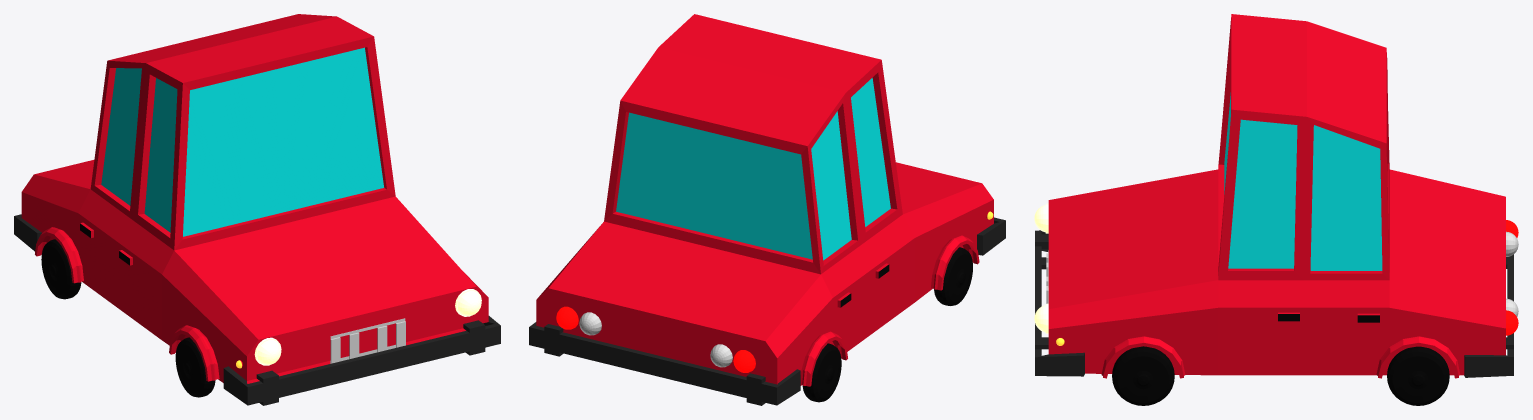
File: car.fbx
3 renders of one model, left to right at view 1: azimuth 30°, elevation 25°; view 2: azimuth 150°, elevation 25°; view 3: azimuth 270°, elevation 25°, orthographic. The views are drawn at different scales.
Visible parts, largest first — view 1: Cube, Cylinder.001, Cube.001; view 2: Cube, Cylinder.001; view 3: Cube, Cylinder.001.
Boxes of the visible parts, left/top/right/bottom form: Cube: left=14, top=14, right=500, bottom=405; Cylinder.001: left=35, top=227, right=219, bottom=397; Cube.001: left=330, top=318, right=405, bottom=363; Cube: left=529, top=14, right=1005, bottom=405; Cylinder.001: left=800, top=235, right=979, bottom=402; Cube: left=1034, top=14, right=1518, bottom=377; Cylinder.001: left=1101, top=336, right=1460, bottom=405.
Size of the model in its own units: 652 by 985 by 628.
